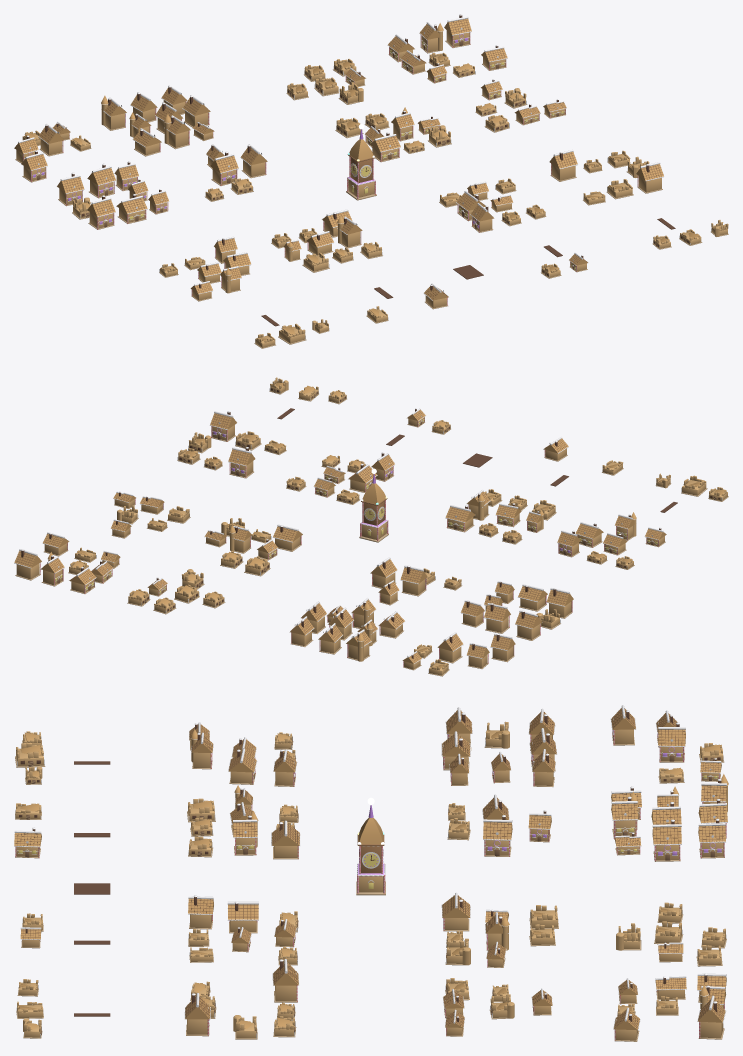
File: GingerbreadVillage_MainStructures.fbx
The picture shows the model from 3 angles, top to bottom: view 1: azimuth 30°, elevation 25°; view 2: azimuth 150°, elevation 25°; view 3: azimuth 270°, elevation 25°; orthographic projection. The views are drawn at different scales.
Visible parts, largest first — view 1: GIN_Landmark_ClockTower, GIN_GingerHouse_Cursed_16, GIN_GingerHouse_Cursed_07, GIN_GingerHouse_Cursed, GIN_GingerHouse_Tall_02, GIN_GingerHouse_Cursed_14, GIN_GingerHouse_Cursed_02, GIN_GingerHouse_Cursed_03, GIN_GingerHouse_Tall_04, GIN_GingerHouse_Cottage_11, GIN_GingerHouse_Cottage, GIN_GingerHouse_Cursed_17 (+8 smaller); view 2: GIN_Landmark_ClockTower, GIN_GingerHouse_Cursed_02, GIN_GingerHouse_Cursed_07, GIN_GingerHouse_Cursed, GIN_GingerHouse_Cursed_14, GIN_GingerHouse_Cursed_03, GIN_GingerHouse_Cursed_17, GIN_GingerHouse_Cottage_12, GIN_GingerHouse_Cottage_11, GIN_GingerHouse_Cursed_16, GIN_GingerHouse_Cottage, GIN_GingerHouse_Tall_04 (+15 smaller); view 3: GIN_Landmark_ClockTower, GIN_GingerHouse_Cursed_05, GIN_GingerHouse_Cursed_04, GIN_GingerHouse_Cursed_15, GIN_GingerHouse_Tall_02, GIN_GingerHouse_Cursed_06, GIN_GingerHouse_Cursed, GIN_GingerHouse_Cottage_12, GIN_GingerHouse_Cursed_02, GIN_GingerHouse_Cottage_06, GIN_GingerHouse_Tall_05, GIN_GingerHouse_Cottage (+24 smaller).
Part boxes in pixels (x1=…): GIN_Landmark_ClockTower: x1=346, y1=124, x2=376, y2=200; GIN_GingerHouse_Cursed_16: x1=87, y1=195, x2=115, y2=229; GIN_GingerHouse_Cursed_07: x1=210, y1=151, x2=238, y2=185; GIN_GingerHouse_Cursed: x1=444, y1=14, x2=471, y2=47; GIN_GingerHouse_Tall_02: x1=164, y1=114, x2=190, y2=149; GIN_GingerHouse_Cursed_14: x1=87, y1=163, x2=116, y2=198; GIN_GingerHouse_Cursed_02: x1=549, y1=149, x2=577, y2=181; GIN_GingerHouse_Cursed_03: x1=636, y1=162, x2=664, y2=193; GIN_GingerHouse_Tall_04: x1=101, y1=95, x2=127, y2=130; GIN_GingerHouse_Cottage_11: x1=116, y1=194, x2=147, y2=223; GIN_GingerHouse_Cottage: x1=369, y1=132, x2=400, y2=162; GIN_GingerHouse_Cursed_17: x1=57, y1=172, x2=84, y2=206; GIN_Landmark_ClockTower: x1=359, y1=468, x2=388, y2=542; GIN_GingerHouse_Cursed_02: x1=228, y1=447, x2=255, y2=478; GIN_GingerHouse_Cursed_07: x1=400, y1=565, x2=427, y2=596; GIN_GingerHouse_Cursed: x1=14, y1=549, x2=42, y2=580; GIN_GingerHouse_Cursed_14: x1=483, y1=603, x2=511, y2=633; GIN_GingerHouse_Cursed_03: x1=210, y1=411, x2=236, y2=441; GIN_GingerHouse_Cursed_17: x1=515, y1=610, x2=542, y2=640; GIN_GingerHouse_Cottage_12: x1=445, y1=505, x2=475, y2=532; GIN_GingerHouse_Cottage_11: x1=517, y1=584, x2=547, y2=611; GIN_GingerHouse_Cursed_16: x1=546, y1=588, x2=573, y2=618; GIN_GingerHouse_Cottage: x1=272, y1=524, x2=302, y2=551; GIN_GingerHouse_Tall_04: x1=346, y1=629, x2=371, y2=661; GIN_Landmark_ClockTower: x1=356, y1=797, x2=385, y2=895; GIN_GingerHouse_Cursed_05: x1=652, y1=819, x2=681, y2=861; GIN_GingerHouse_Cursed_04: x1=483, y1=815, x2=512, y2=856; GIN_GingerHouse_Cursed_15: x1=658, y1=722, x2=685, y2=762; GIN_GingerHouse_Tall_02: x1=611, y1=791, x2=638, y2=839; GIN_GingerHouse_Cursed_06: x1=698, y1=818, x2=725, y2=858; GIN_GingerHouse_Cursed: x1=697, y1=995, x2=726, y2=1039; GIN_GingerHouse_Cottage_12: x1=271, y1=820, x2=300, y2=859; GIN_GingerHouse_Cursed_02: x1=272, y1=959, x2=299, y2=1002; GIN_GingerHouse_Cottage_06: x1=227, y1=901, x2=258, y2=933; GIN_GingerHouse_Tall_05: x1=232, y1=811, x2=258, y2=855; GIN_GingerHouse_Cottage: x1=441, y1=892, x2=470, y2=931.
Size of the model in its own units: 339 by 48.31 by 336.
